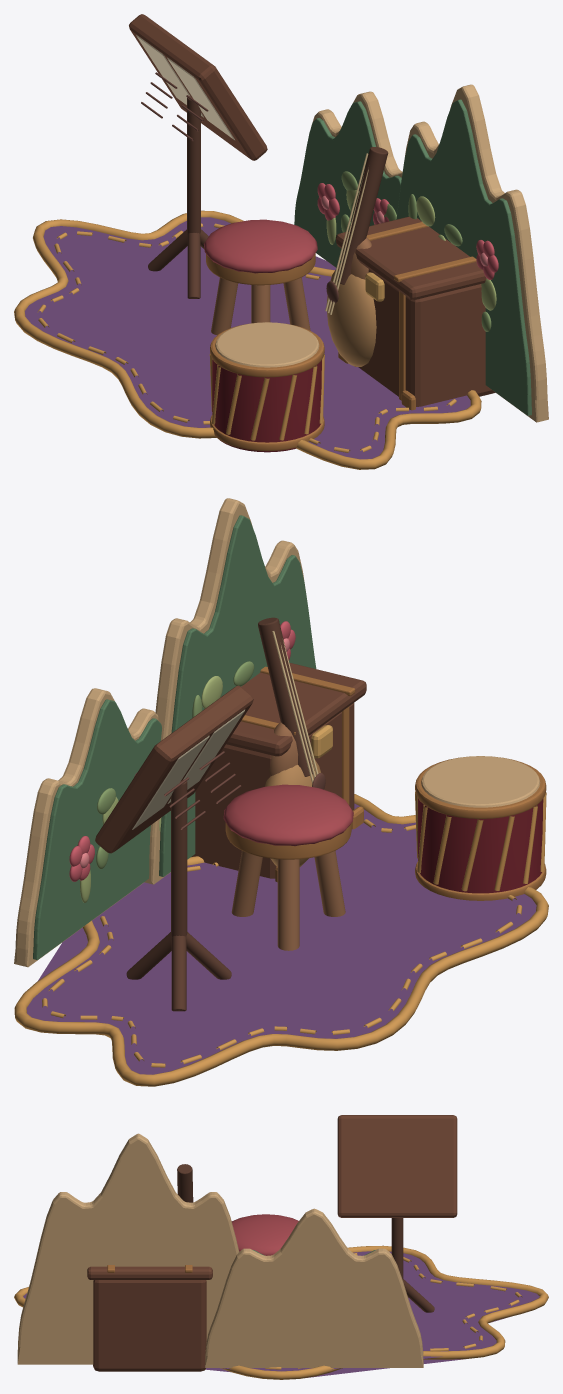
The model's file is SM_Hub_MusicCorner.fbx.
3 views of the same model, one above another, from view 1: azimuth 30°, elevation 25°; view 2: azimuth 150°, elevation 25°; view 3: azimuth 270°, elevation 25° (orthographic). The views are drawn at different scales.
Visible parts, largest first — view 1: Orchestra rug.001_Baked; view 2: Orchestra rug.001_Baked; view 3: Orchestra rug.001_Baked.
Part boxes in pixels (<box>): Orchestra rug.001_Baked: <box>14,14,548,469</box>; Orchestra rug.001_Baked: <box>14,498,548,1086</box>; Orchestra rug.001_Baked: <box>14,1115,548,1379</box>.
Bounding box in the file's own units: 158 × 277 × 134.
